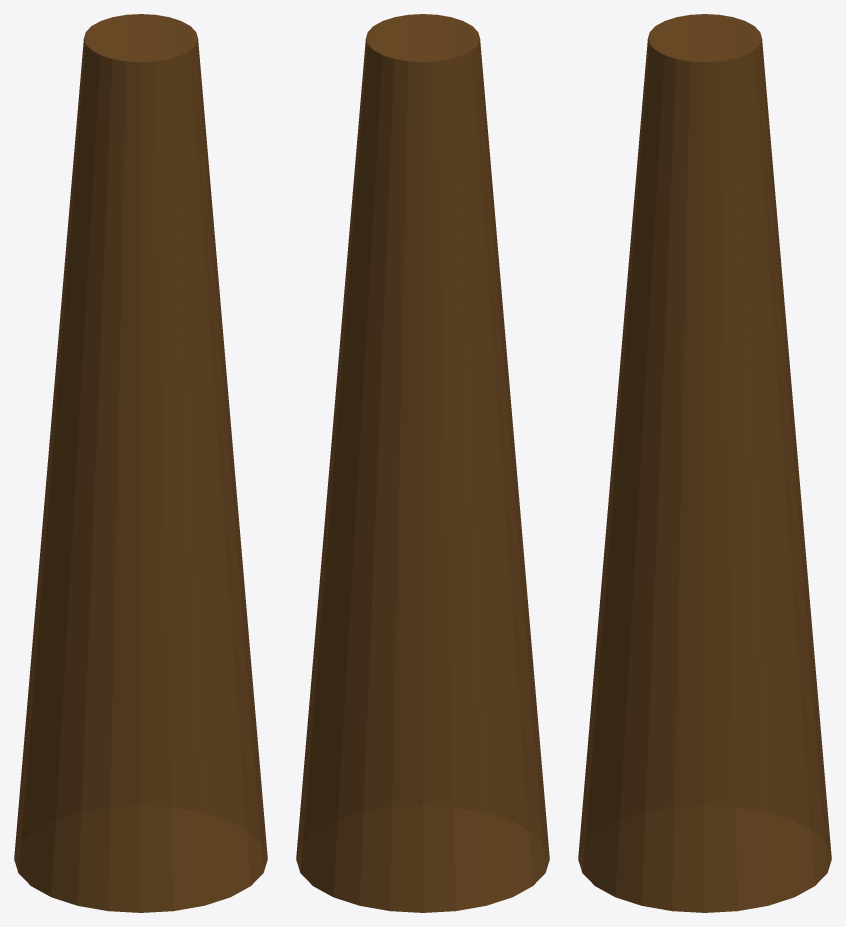
File: beer_bottle.glb
3 renders of one model, left to right at view 1: azimuth 30°, elevation 25°; view 2: azimuth 150°, elevation 25°; view 3: azimuth 270°, elevation 25°, orthographic.
Visible parts, largest first — view 1: beer_bottle; view 2: beer_bottle; view 3: beer_bottle.
Boxes of the visible parts, x1,y1,x2,y2 form: beer_bottle: [14, 14, 267, 912]; beer_bottle: [296, 14, 549, 912]; beer_bottle: [578, 14, 831, 912].
Size of the model in its own units: 0.07 by 0.25 by 0.07.
